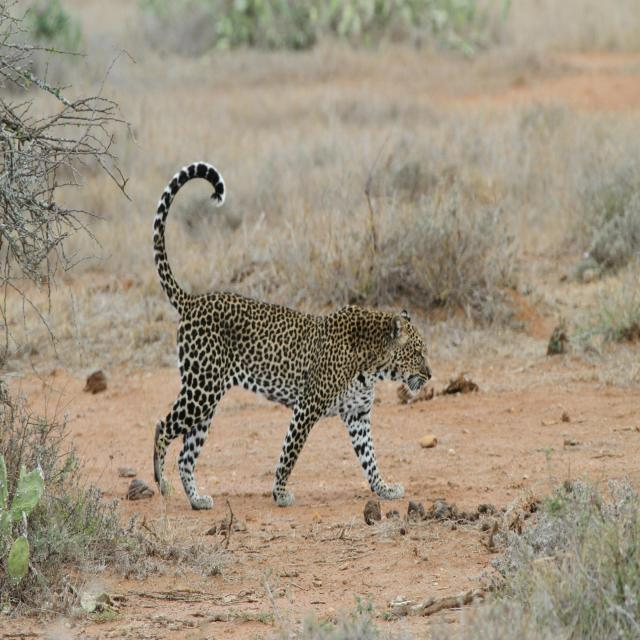Leopard: (124, 224, 447, 518)
